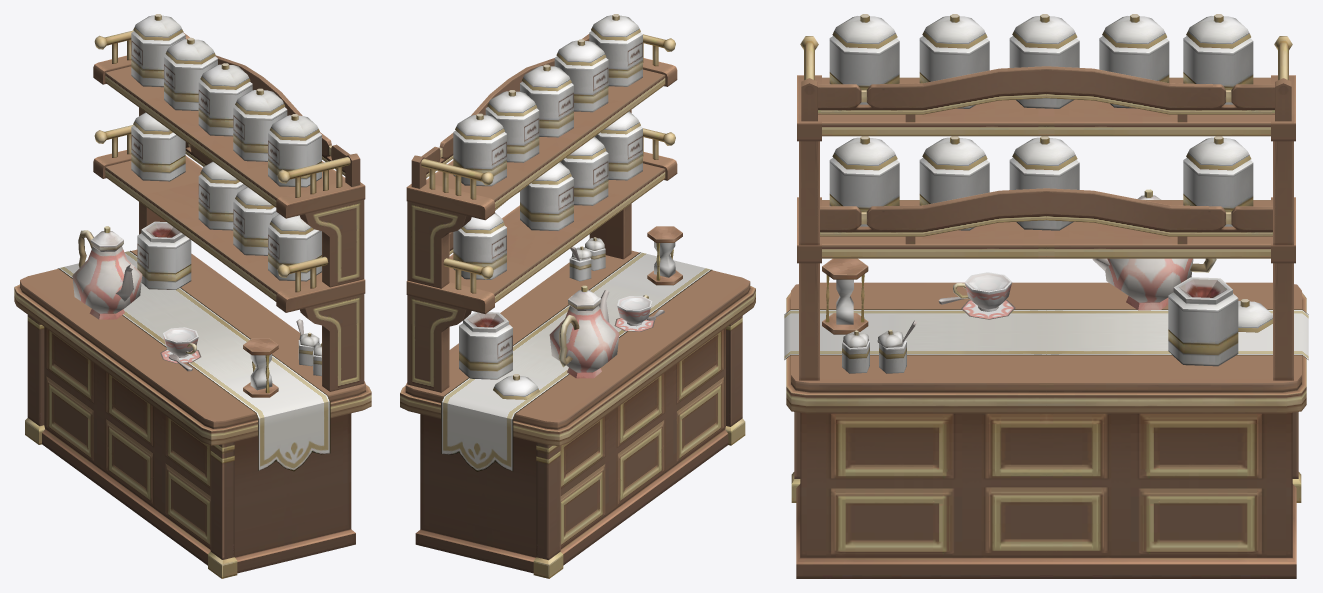
The model's file is my_teaparty_01_shelf_04.glb.
3 renders of one model, left to right at view 1: azimuth 30°, elevation 25°; view 2: azimuth 150°, elevation 25°; view 3: azimuth 270°, elevation 25°, orthographic. The views are drawn at different scales.
Visible parts, largest first — view 1: my_teaparty_01_shelf_04; view 2: my_teaparty_01_shelf_04; view 3: my_teaparty_01_shelf_04.
Boxes of the visible parts, bbox=[...] form: my_teaparty_01_shelf_04: bbox=[14, 14, 371, 578]; my_teaparty_01_shelf_04: bbox=[400, 14, 755, 578]; my_teaparty_01_shelf_04: bbox=[784, 14, 1308, 578].
Size of the model in its own units: 0.00523 by 0.0125 by 0.011.
Materials: 2 (2 with a texture image).
